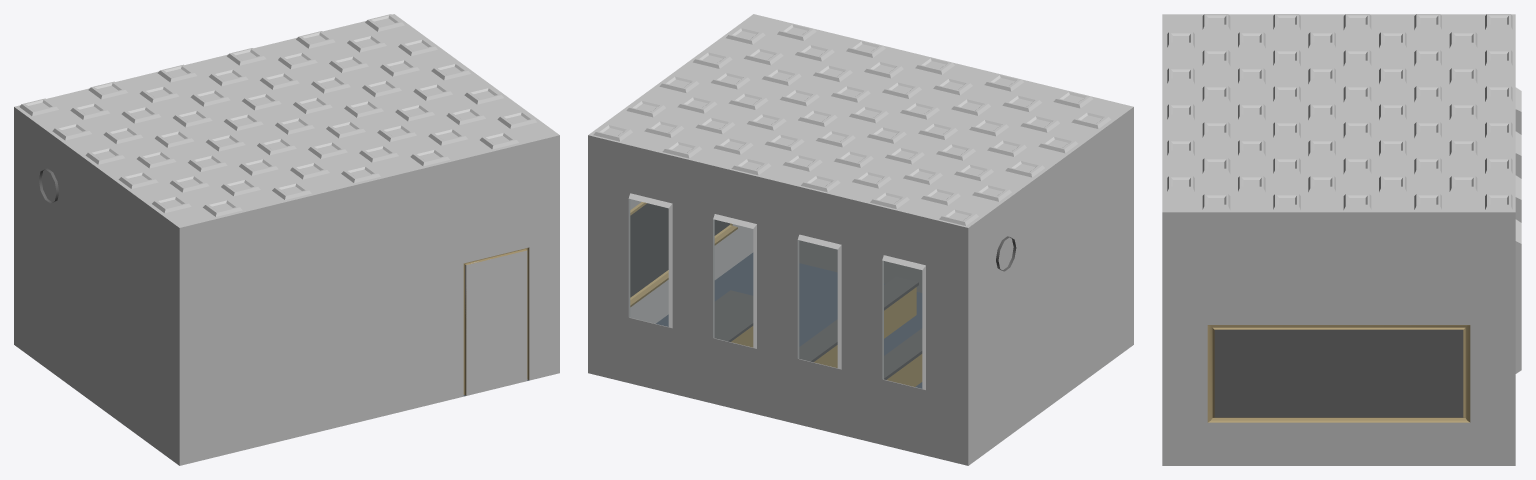
The model's file is dummyRoom.fbx.
The picture shows the model from 3 angles, left to right: view 1: azimuth 30°, elevation 25°; view 2: azimuth 150°, elevation 25°; view 3: azimuth 270°, elevation 25°; orthographic projection. The views are drawn at different scales.
Parts seen in each view (by area): view 1: doorWall, VictorianLeatherCeiling, L_Wall, door; view 2: windowWall, VictorianLeatherCeiling, L_Wall, R_Wall, floor, pCube2, pCube1, pCube3, door, doorWall; view 3: R_Wall, VictorianLeatherCeiling, windowWall.
Boxes of the visible parts, x1,y1,x2,y2 form: doorWall: (179, 135, 559, 465); VictorianLeatherCeiling: (14, 14, 559, 227); L_Wall: (14, 107, 179, 465); door: (465, 250, 527, 391); windowWall: (588, 135, 968, 465); VictorianLeatherCeiling: (588, 14, 1133, 227); L_Wall: (968, 107, 1133, 465); R_Wall: (630, 199, 753, 323); floor: (656, 252, 922, 388); pCube2: (799, 276, 918, 367); pCube1: (714, 290, 753, 347); pCube3: (884, 328, 922, 386); door: (799, 240, 837, 269); doorWall: (799, 260, 922, 292); R_Wall: (1162, 212, 1515, 465); VictorianLeatherCeiling: (1162, 14, 1515, 212); windowWall: (1515, 87, 1521, 373).
Bounding box in the file's own units: 11.32 × 6.8 × 8.62.
